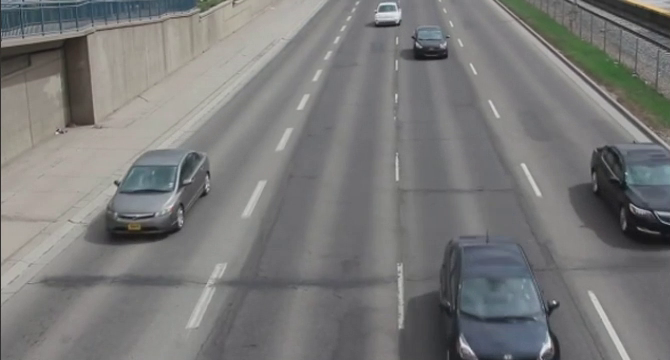car: (436, 233, 566, 360), (103, 142, 212, 241), (587, 144, 670, 245), (411, 25, 450, 59), (372, 2, 409, 29)
